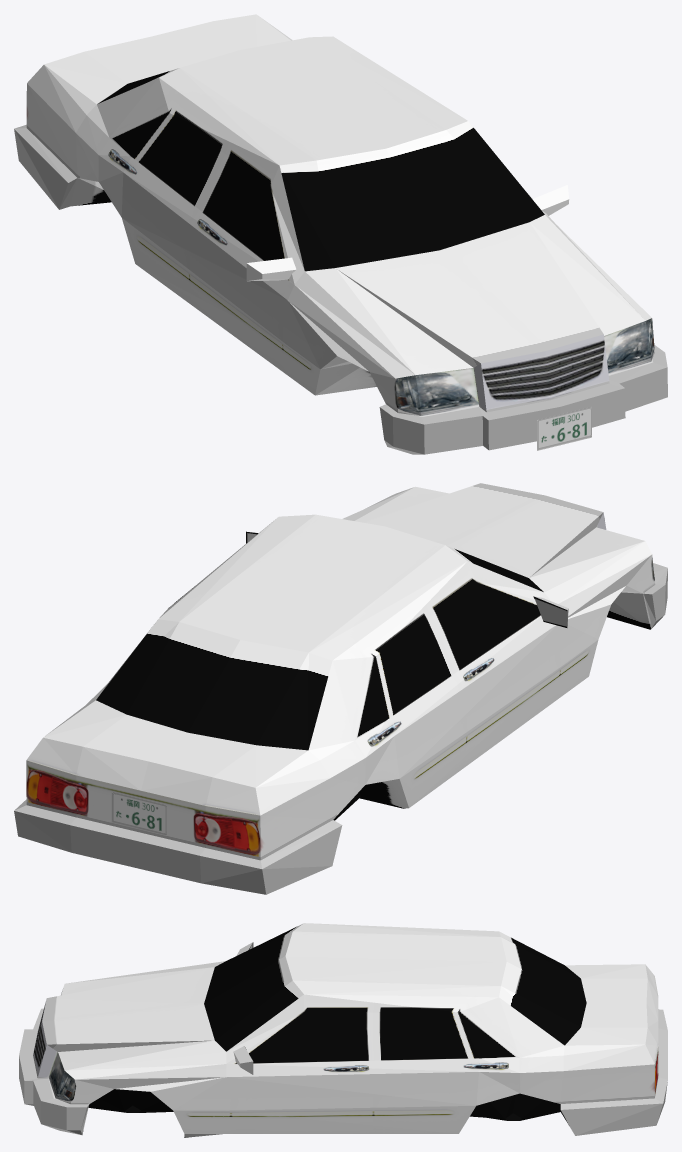
The model's file is car.fbx.
3 views of the same model, one above another, from view 1: azimuth 30°, elevation 25°; view 2: azimuth 150°, elevation 25°; view 3: azimuth 270°, elevation 25° (orthographic). The views are drawn at different scales.
Parts seen in each view (by area): view 1: BODY; view 2: BODY; view 3: BODY.
Boxes of the visible parts, x1,y1,x2,y2 form: BODY: [14, 14, 667, 454]; BODY: [14, 483, 667, 894]; BODY: [19, 923, 667, 1137].
Size of the model in its own units: 172 by 89.41 by 397.
